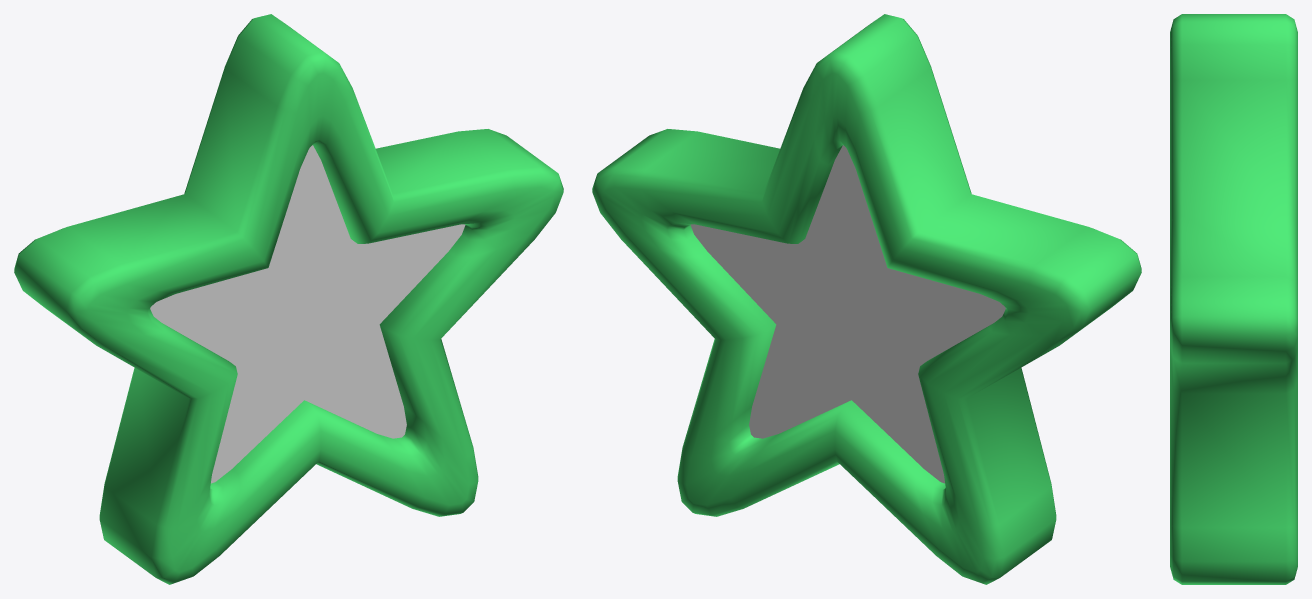
Rendered from star4.fbx.
3 renders of one model, left to right at view 1: azimuth 30°, elevation 25°; view 2: azimuth 150°, elevation 25°; view 3: azimuth 270°, elevation 25°, orthographic.
Visible parts, largest first — view 1: Circle.011; view 2: Circle.011; view 3: Circle.011.
Boxes of the visible parts, box(x1,y1,x2,y2) form: Circle.011: box(14, 14, 563, 584); Circle.011: box(592, 14, 1141, 584); Circle.011: box(1170, 14, 1297, 584).
Size of the model in its own units: 0.7488 by 0.7122 by 0.1665.
